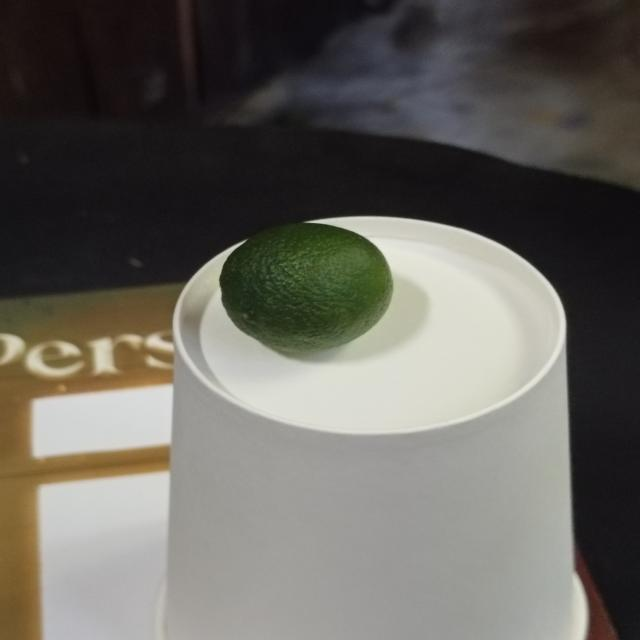heathy: (218, 220, 395, 357)
